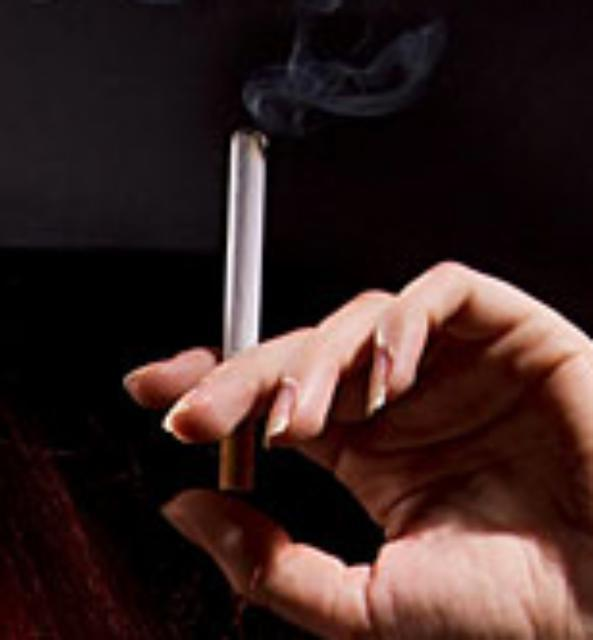Smoking: (208, 117, 270, 490)
